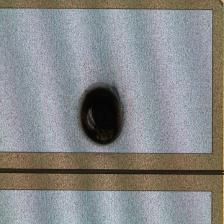PARTICLE: (71, 84, 135, 148)
